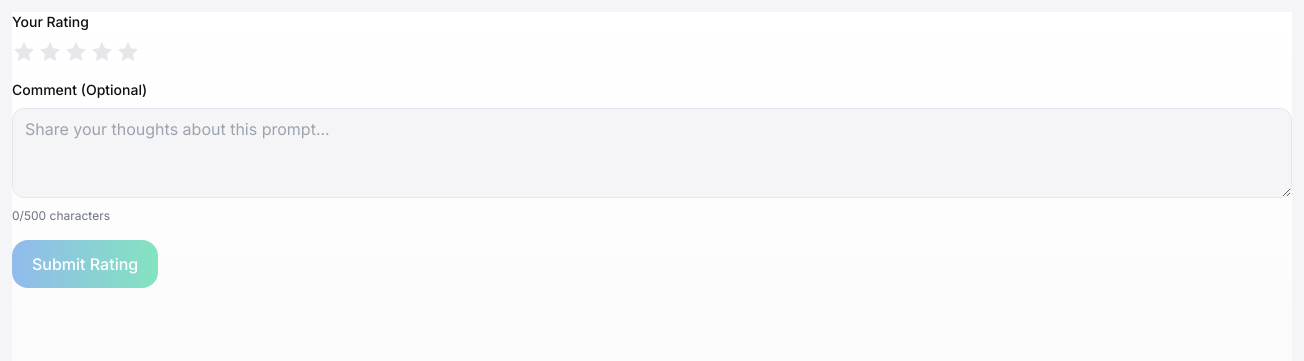
Test: RatingSubmission Component › shows error on failed submission
// Select rating
Click the button named "Rate 1 star" at (24, 52), box 12,40 -> 36,64
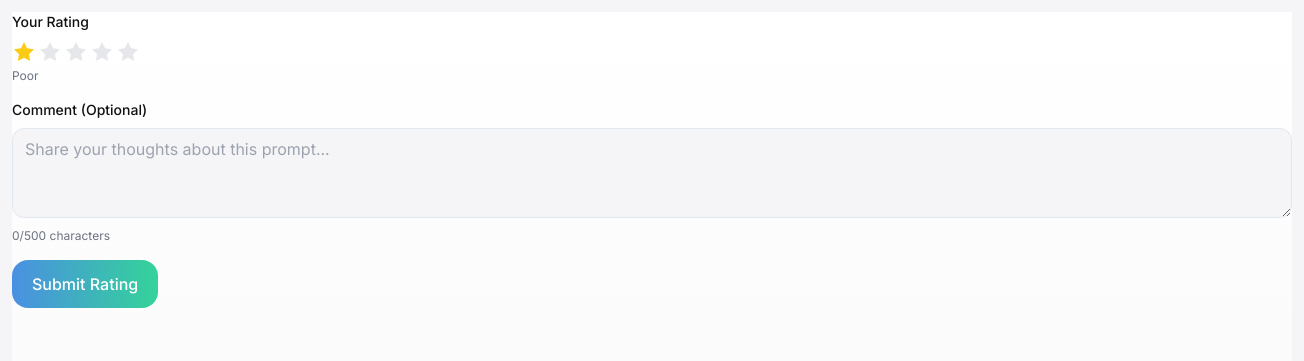
Click the button "Submit Rating" at (85, 284), box 12,260 -> 158,308
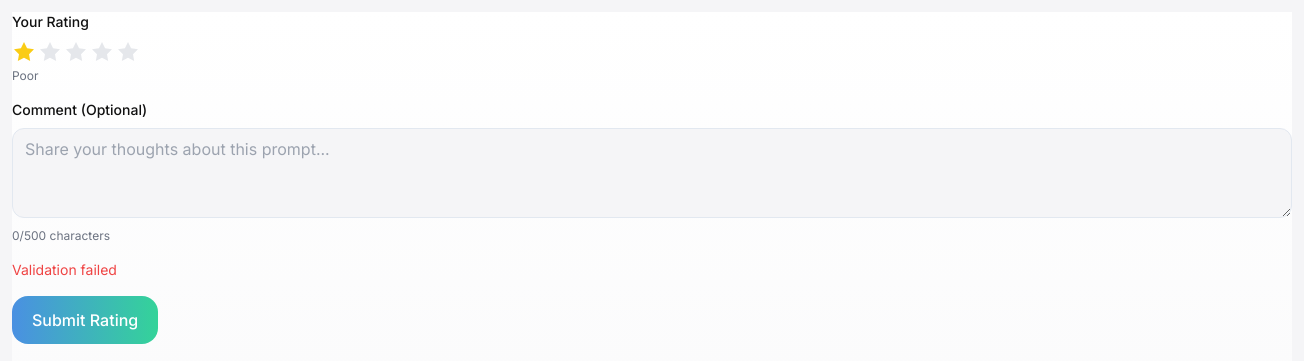
Check: the text "Validation failed" is shown, box 12,261 -> 117,278
